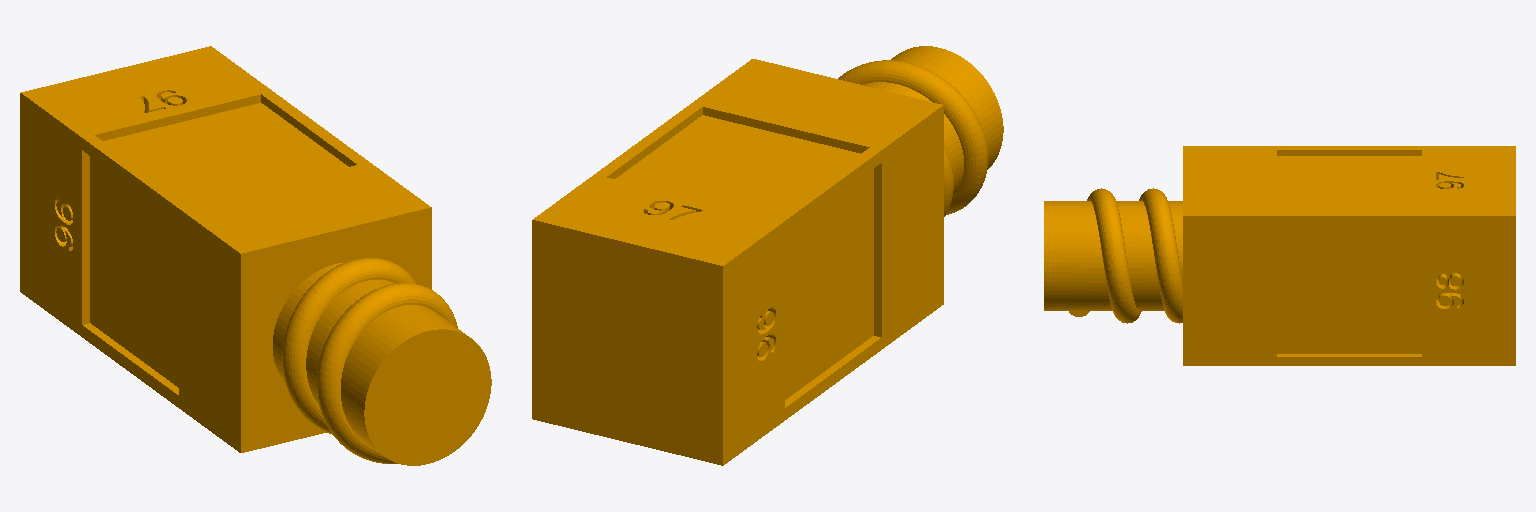
URDF robot description (chair_leg2):
<?xml version="1.0"?>
<robot name="chair_leg2">
    <link name="chair_leg2">
        <visual>
            <geometry>
                <mesh filename="../../mesh/chair/chair_leg2.obj" scale="1 1 1"/>
            </geometry>
        </visual>
        <collision>
            <geometry>
                <mesh filename="../../mesh/chair/chair_leg2.obj" scale="1 1 1"/>
            </geometry>
            <sdf resolution="512"/>
        </collision>
        <!-- <inertial>
            <mass value="1."/>
            <inertia ixx="0.0001" ixy="0.0" ixz="0.0" iyy="0.0001" iyz="0.0" izz="0.0001"/>
        </inertial> -->
    </link>
</robot>

--- Facts derived from the render (not from the file) ---
The picture shows the robot from 3 angles, left to right: view 1: azimuth 30°, elevation 25°; view 2: azimuth 150°, elevation 25°; view 3: azimuth 270°, elevation 25°; orthographic projection.
Robot: chair_leg2 — 1 links, 0 joints (none); root link chair_leg2; default pose: all joints at 0.
Links seen in each view (by area): view 1: chair_leg2; view 2: chair_leg2; view 3: chair_leg2.
Link boxes in pixels (box(x1,y1,x2,y2)): chair_leg2: box(20, 46, 491, 465); chair_leg2: box(532, 46, 1003, 465); chair_leg2: box(1044, 146, 1515, 365).
Size in the robot's own frame: 0.03 by 0.085 by 0.03 metres.
1 mesh visuals loaded from 1 distinct referenced files (1 OBJ).